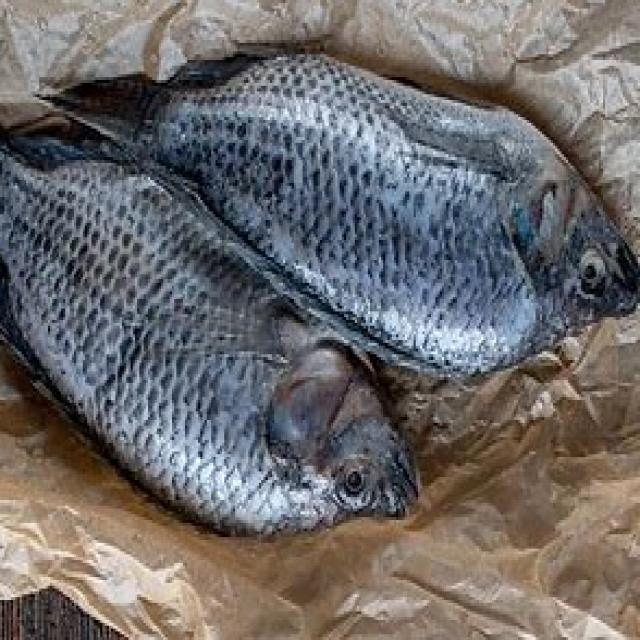Tilapia: (0, 132, 426, 533)
